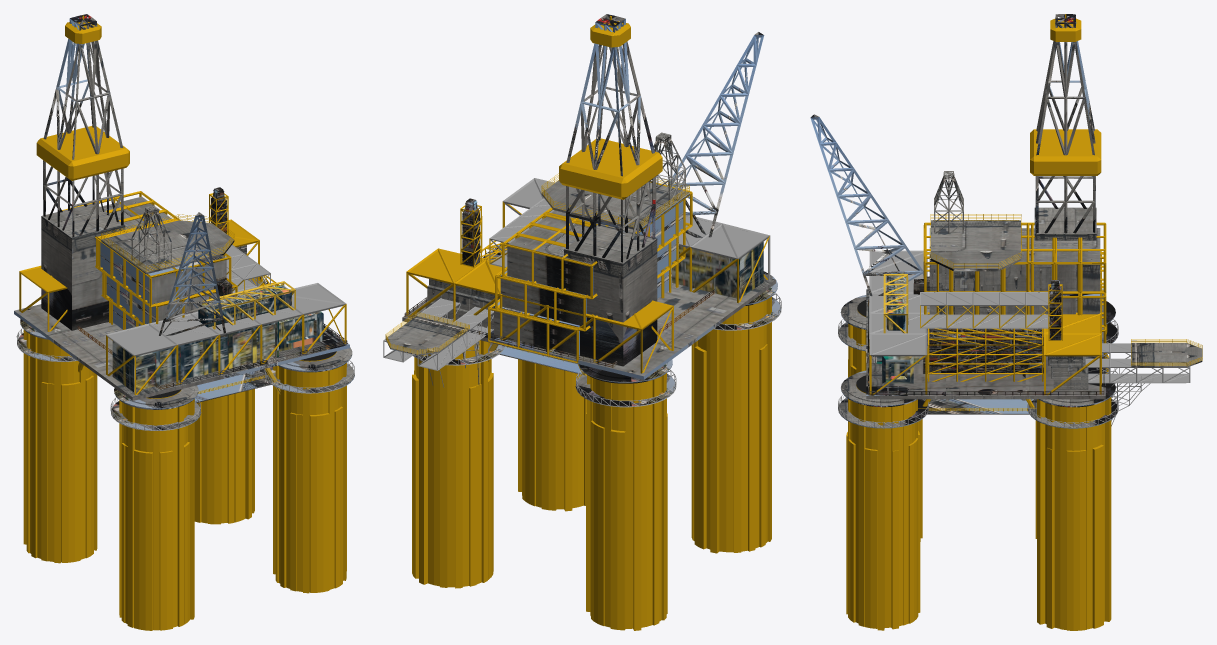
The model's file is semi-sub.glb.
3 renders of one model, left to right at view 1: azimuth 30°, elevation 25°; view 2: azimuth 150°, elevation 25°; view 3: azimuth 270°, elevation 25°, orthographic. The views are drawn at different scales.
Visible parts, largest first — view 1: Cylinder.008_18, Cylinder.006_20, Cylinder.007_19, Cylinder.005_21, Cube.030_46, Cube.034_42, Cube.031_45, Plane.008_0, Plane.004_4, Cube.024_52, Cube.025_51, Cube.032_44 (+16 smaller); view 2: Cylinder.007_19, Cylinder.008_18, Cylinder.005_21, Cube.024_52, Cylinder.006_20, Cube.030_46, Cube.031_45, Plane.004_4, Plane.003_5, Cube.033_43, Cylinder.004_22, Cube.032_44 (+19 smaller); view 3: Cylinder.005_21, Cylinder.006_20, Cube.024_52, Plane.004_4, Cube.031_45, Plane.008_0, Cube.049_27, Cube.025_51, Plane.005_3, Cylinder.004_22, Cube.033_43, Cube.032_44 (+22 smaller).
Boxes of the visible parts, left/top/right/bottom form: Cylinder.008_18: left=119, top=389, right=194, bottom=630; Cylinder.006_20: left=273, top=351, right=346, bottom=593; Cylinder.007_19: left=23, top=329, right=97, bottom=563; Cylinder.005_21: left=194, top=389, right=254, bottom=524; Cube.030_46: left=41, top=203, right=125, bottom=330; Cube.034_42: left=112, top=311, right=323, bottom=392; Cube.031_45: left=43, top=14, right=123, bottom=237; Plane.008_0: left=106, top=283, right=346, bottom=395; Plane.004_4: left=14, top=278, right=349, bottom=400; Cube.024_52: left=100, top=196, right=232, bottom=329; Cube.025_51: left=101, top=220, right=234, bottom=274; Cube.032_44: left=36, top=126, right=129, bottom=180; Cylinder.007_19: left=586, top=373, right=667, bottom=630; Cylinder.008_18: left=691, top=296, right=771, bottom=553; Cylinder.005_21: left=412, top=340, right=493, bottom=588; Cube.024_52: left=494, top=201, right=683, bottom=355; Cylinder.006_20: left=518, top=359, right=586, bottom=511; Cube.030_46: left=564, top=224, right=657, bottom=366; Cube.031_45: left=566, top=14, right=655, bottom=262; Plane.004_4: left=402, top=246, right=775, bottom=379; Plane.003_5: left=406, top=248, right=673, bottom=373; Cube.033_43: left=488, top=182, right=692, bottom=363; Cylinder.004_22: left=668, top=32, right=764, bottom=237; Cube.032_44: left=559, top=138, right=662, bottom=199; Cylinder.005_21: left=1037, top=397, right=1111, bottom=630; Cylinder.006_20: left=846, top=375, right=920, bottom=630; Cube.024_52: left=929, top=228, right=1100, bottom=356; Plane.004_4: left=866, top=289, right=1105, bottom=400; Cube.031_45: left=1035, top=14, right=1095, bottom=233; Plane.008_0: left=869, top=250, right=927, bottom=395; Cube.049_27: left=923, top=328, right=1043, bottom=373; Cube.025_51: left=931, top=220, right=1021, bottom=271; Plane.005_3: left=920, top=292, right=1049, bottom=328; Cylinder.004_22: left=810, top=114, right=923, bottom=296; Cube.033_43: left=923, top=222, right=1106, bottom=358; Cube.032_44: left=1030, top=129, right=1101, bottom=175.
Bounding box in the file's own units: 96.26 × 209 × 140.
7 materials, 3 textured.
